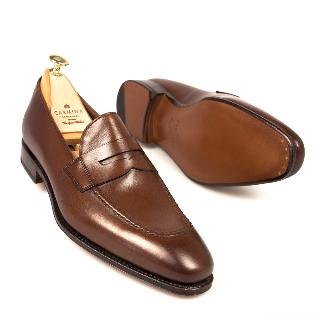loafers: (8, 49, 306, 303)
